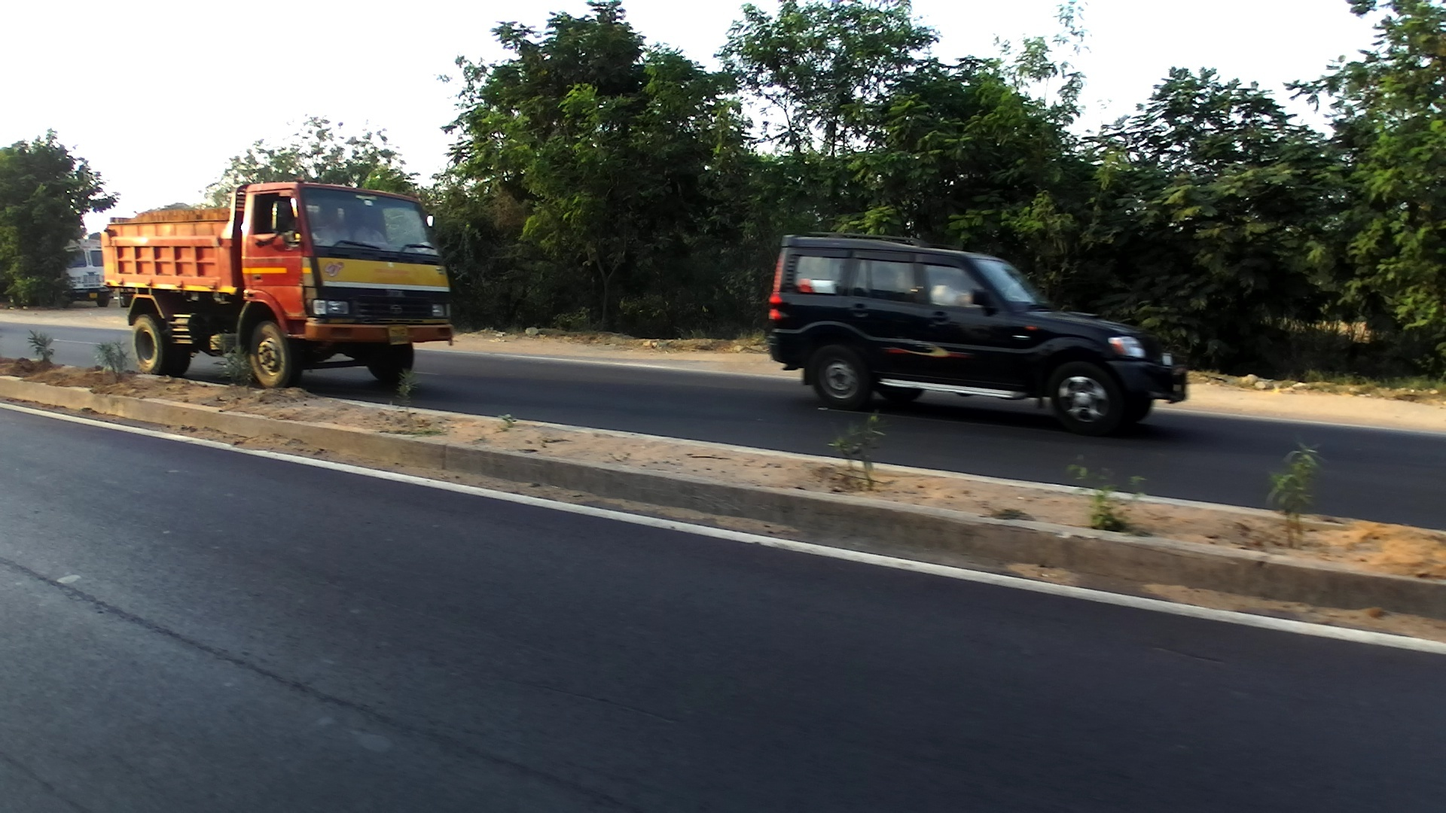car: (766, 224, 1186, 436)
truck: (102, 178, 453, 392), (61, 239, 115, 307)
